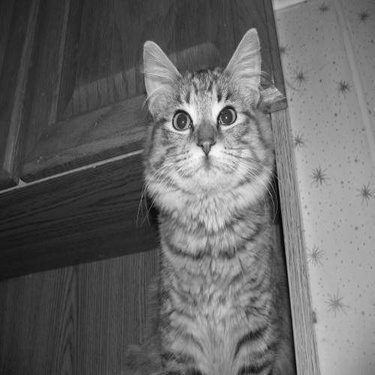cat: (121, 31, 297, 355)
